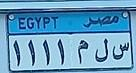1: (55, 37, 66, 67), (40, 39, 52, 66), (26, 39, 37, 67), (11, 39, 22, 67)
laam: (94, 36, 109, 64)
meem: (76, 39, 89, 64)
seen: (112, 40, 130, 62)
